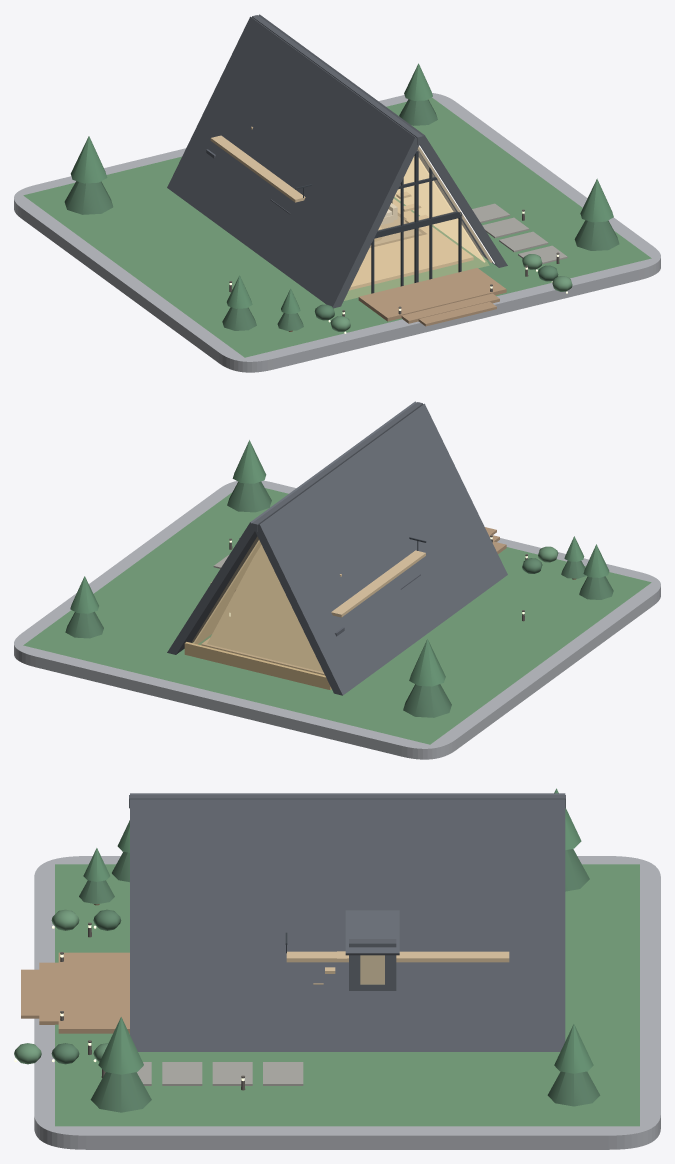
Rendered from shag-aframe-house.glb.
3 views of the same model, one above another, from view 1: azimuth 30°, elevation 25°; view 2: azimuth 150°, elevation 25°; view 3: azimuth 270°, elevation 25° (orthographic). The views are drawn at different scales.
Visible parts, largest first — view 1: Roof_Slope_L, Lawn, Platform, Gable_Glass_Front, Deck, Floor_1, Roof_Slope_R, Fir_0, Lining_R, Fir_3, Fir_1, Mezzanine (+9 smaller); view 2: Lawn, Roof_Slope_L, Platform, Gable_Glass_Back, Interior_Back_Wall, Roof_Slope_R, Fir_0, Facade_Band_Back, Fir_3, Fir_1, Mezzanine, Ridge (+3 smaller); view 3: Roof_Slope_R, Lawn, Platform, Deck, Fir_3, Fir_1, Ridge, Dormer_Body, Dormer_Cap, Mezzanine, Step_1, Fir_4 (+8 smaller).
Boxes of the visible parts, box(x1,y1,x2,y2) form: Roof_Slope_L: box(167, 16, 419, 308); Lawn: box(23, 97, 651, 357); Platform: box(14, 93, 660, 372); Gable_Glass_Front: box(344, 150, 488, 300); Deck: box(358, 268, 506, 321); Floor_1: box(349, 198, 473, 290); Roof_Slope_R: box(258, 14, 507, 267); Fir_0: box(64, 136, 113, 214); Lining_R: box(394, 156, 485, 262); Fir_3: box(574, 178, 619, 250); Fir_1: box(399, 63, 437, 125); Mezzanine: box(210, 135, 305, 202); Lawn: box(23, 488, 651, 744); Roof_Slope_L: box(255, 403, 507, 695); Platform: box(14, 480, 660, 759); Gable_Glass_Back: box(191, 537, 324, 675); Interior_Back_Wall: box(207, 545, 323, 672); Roof_Slope_R: box(167, 401, 416, 654); Fir_0: box(403, 639, 451, 717); Facade_Band_Back: box(184, 642, 331, 690); Fir_3: box(227, 440, 271, 512); Fir_1: box(65, 576, 103, 638); Mezzanine: box(210, 550, 425, 617); Ridge: box(252, 402, 422, 531); Roof_Slope_R: box(130, 799, 565, 1051); Lawn: box(55, 864, 639, 1126); Platform: box(34, 856, 660, 1149); Deck: box(58, 952, 129, 1033); Fir_3: box(90, 1017, 151, 1112); Fir_1: box(547, 1024, 600, 1106); Ridge: box(129, 795, 565, 808); Dormer_Body: box(349, 939, 396, 990); Dormer_Cap: box(345, 910, 399, 955); Mezzanine: box(286, 951, 509, 962); Step_1: box(39, 962, 58, 1024); Fir_4: box(79, 848, 114, 905).
Bounding box in the file's own units: 19 × 6.77 × 18.58.
